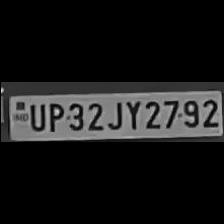2: (198, 97, 220, 129), (84, 99, 104, 131), (141, 98, 161, 130)
3: (64, 99, 84, 130)
7: (160, 97, 178, 129)
9: (179, 96, 199, 128)
J: (106, 99, 122, 131)
P: (45, 100, 63, 132)
U: (26, 101, 44, 131)
Y: (121, 98, 141, 130)
